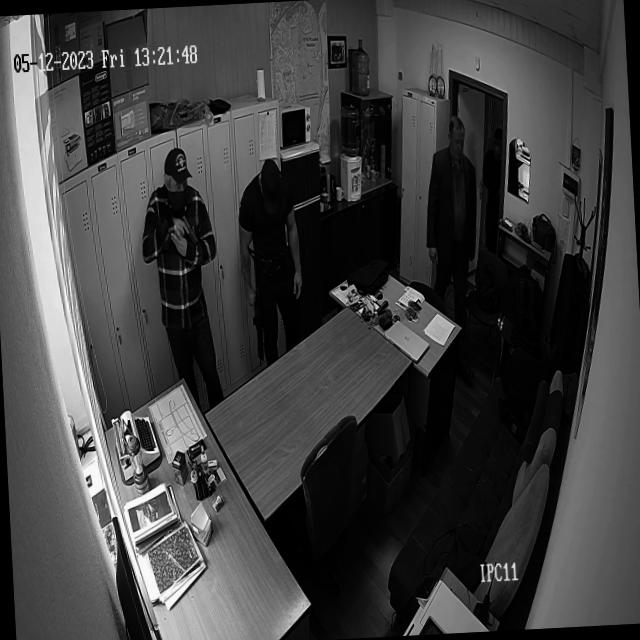gun: (244, 242, 271, 368), (176, 197, 202, 257)
person: (424, 112, 486, 320)
person with a gun: (143, 138, 228, 414), (235, 152, 318, 382)
